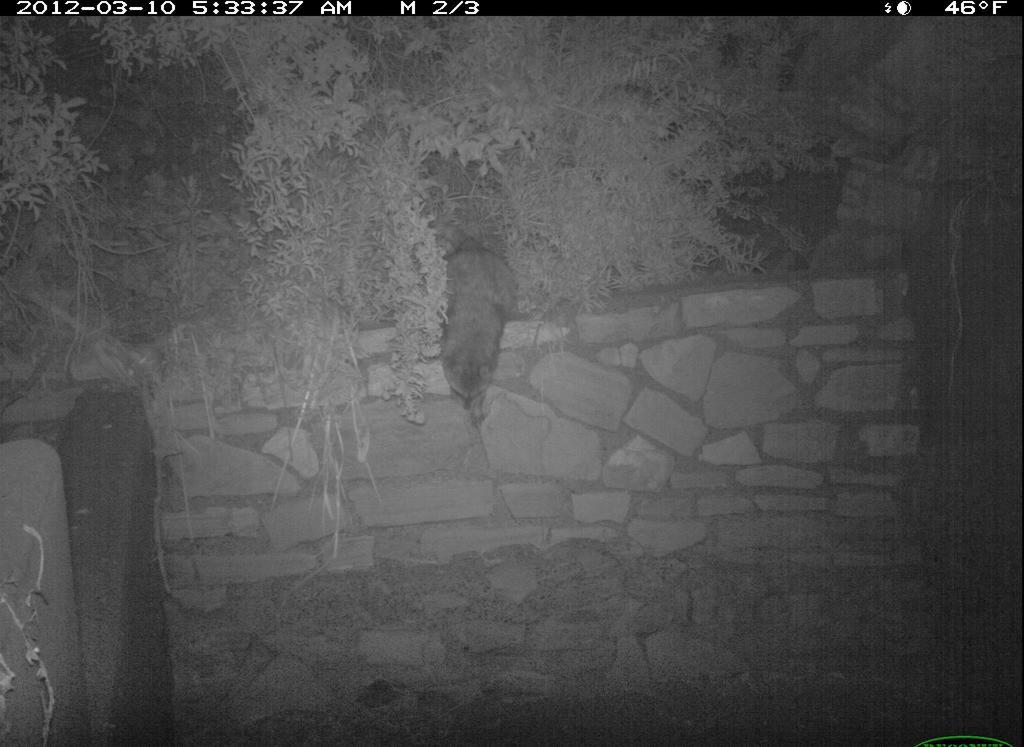raccoon: (425, 217, 525, 432)
